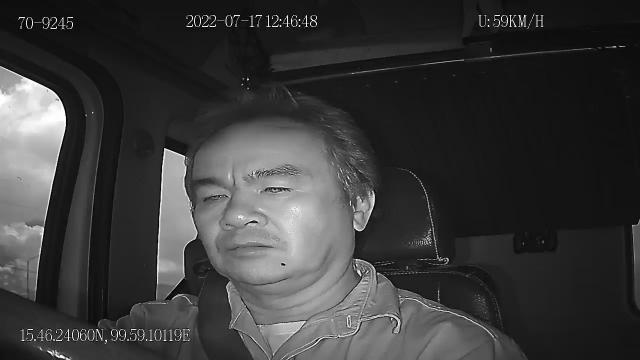SafeDriving: (252, 174, 300, 202), (192, 179, 234, 210)
Seatbelt: (196, 268, 254, 360)
